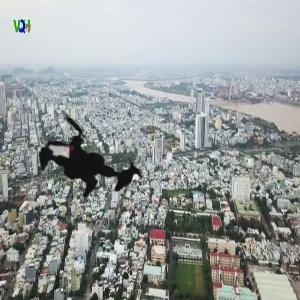drone: (13, 78, 172, 237)
